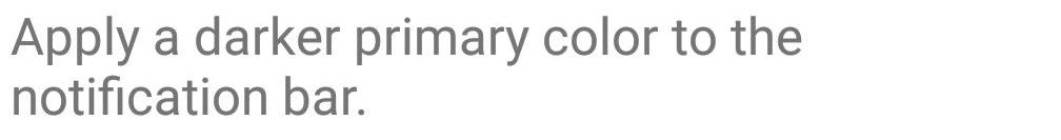TextView: (1, 1, 1060, 139)
